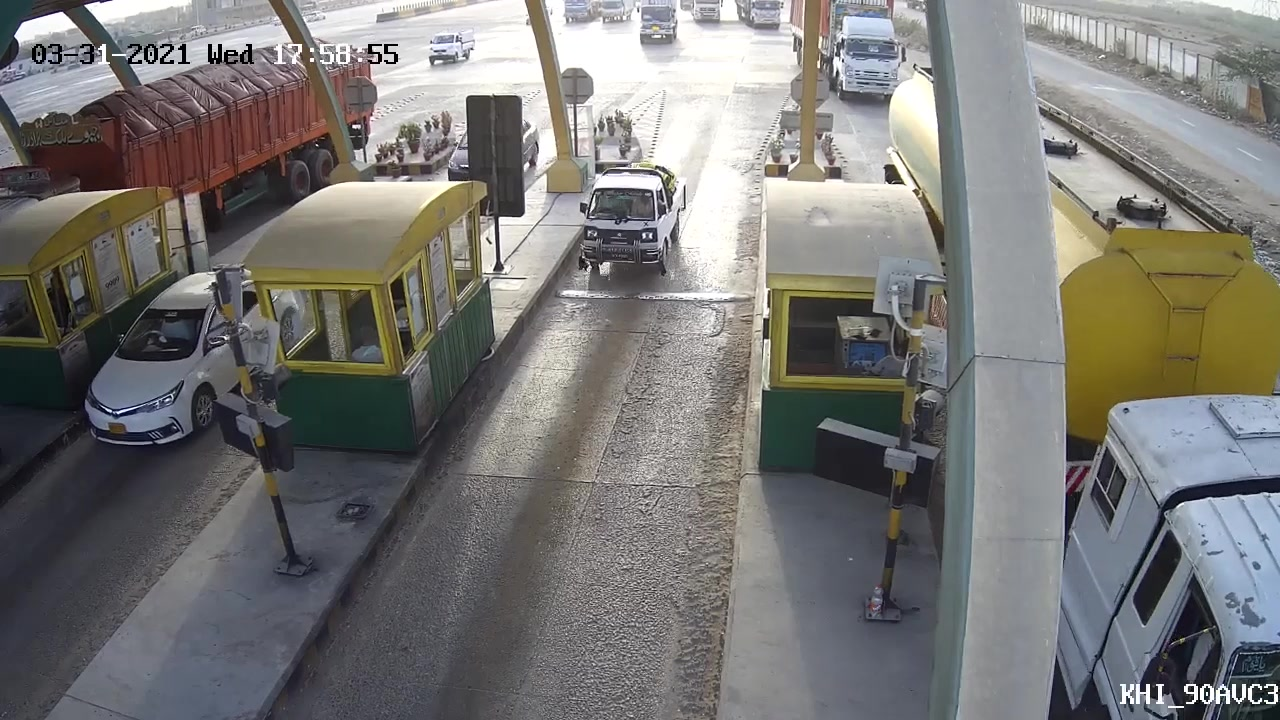F1: (572, 154, 694, 282)
